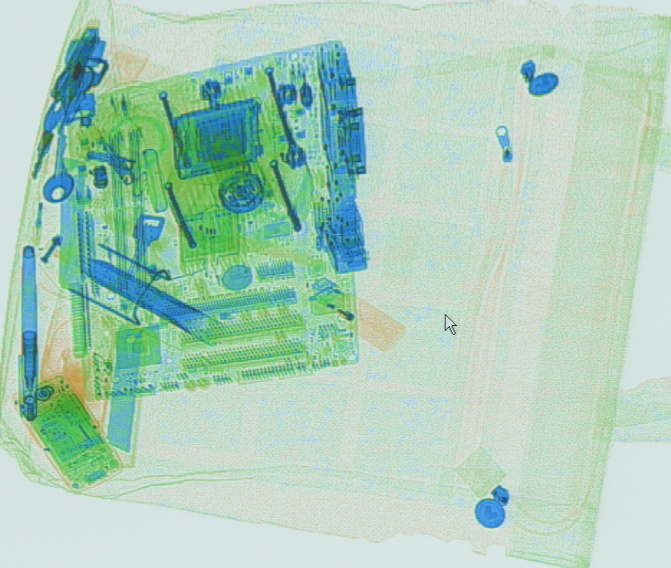knife: (99, 326, 147, 468)
lighter: (302, 274, 409, 349)
